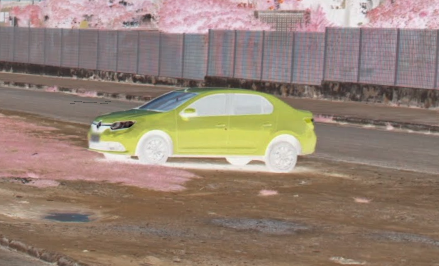car: (85, 80, 321, 176)
